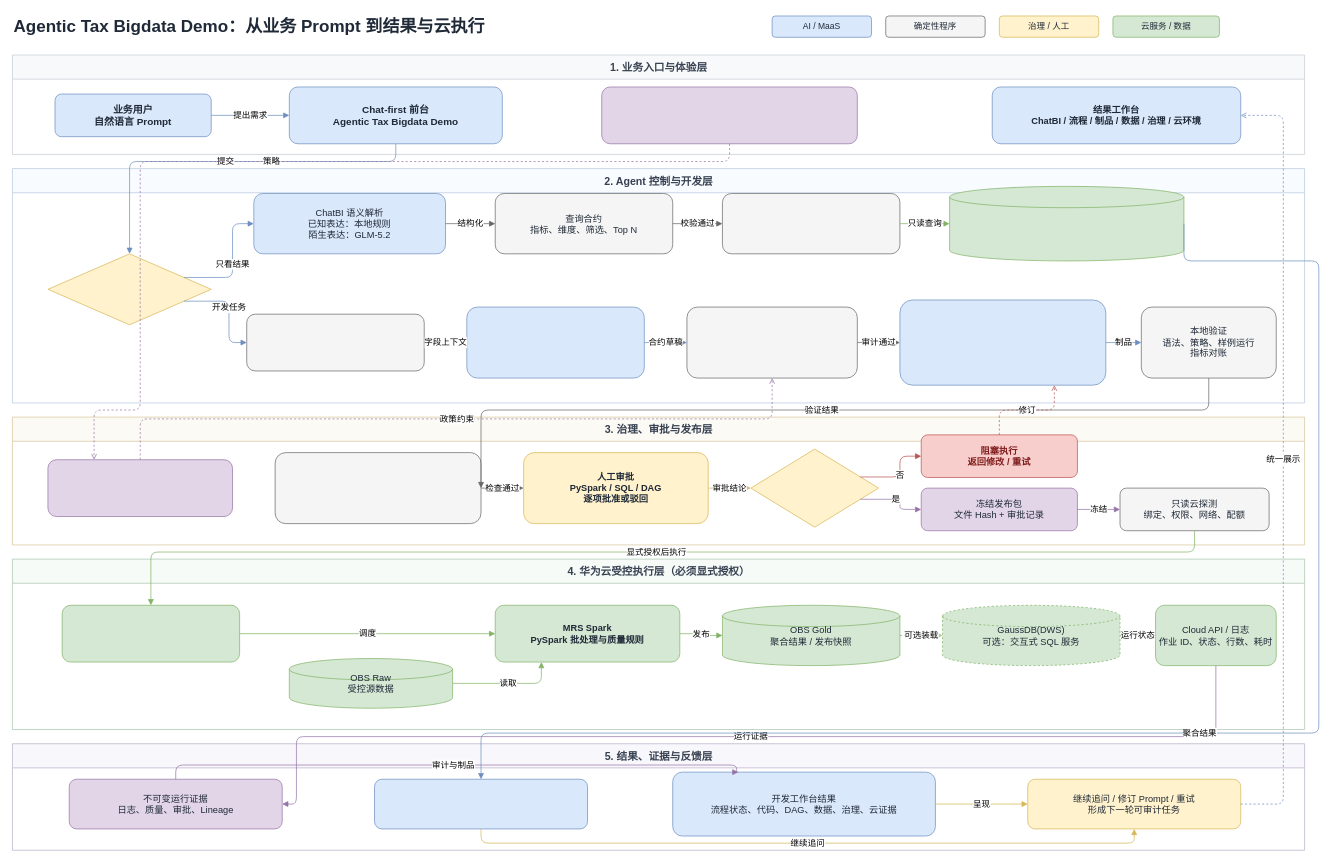
The diagram is 1337 pixels wide and 863 high, and some of its shapes have lost their labels. Here are the shapes that lost their labels. From the top down, the centre of each, then its label:
point (729, 115): 默认安全边界 不上传直接 RFC / 密钥 不自动创建或执行云资源
point (811, 223): 受控 SQL 编译器 白名单 + 参数化 + 只读
point (1066, 223): 当前查询执行 读取已发布的 MRS Gold 快照 不扫描原始身份字段
point (129, 289): 意图路由 查询结果，还是开发任务？
point (335, 342): 数据上下文 Agent Schema、目录、脱敏合成数据
point (555, 342): 业务合约 Agent MaaS 草稿 + 本地兜底 目标、粒度、指标、隐私
point (771, 342): 合约审计 Schema / 字段 / 指标白名单 确定性检查
point (1002, 342): 专业职责 Agents 架构 / PySpark / SQL / DataArts DAG 质量 / 安全 / Lineage
point (140, 488): 语义目录与安全策略 指标口径、隐私分级、最小权限
point (377, 488): 质量 / 安全 / Lineage 检查 空值、行数、对账、敏感字段、血缘
point (814, 487): 全部通过？
point (150, 633): DataArts Factory 调度与业务编排
point (481, 804): ChatBI 结果 KPI、排名、明细、口径、受控 SQL
